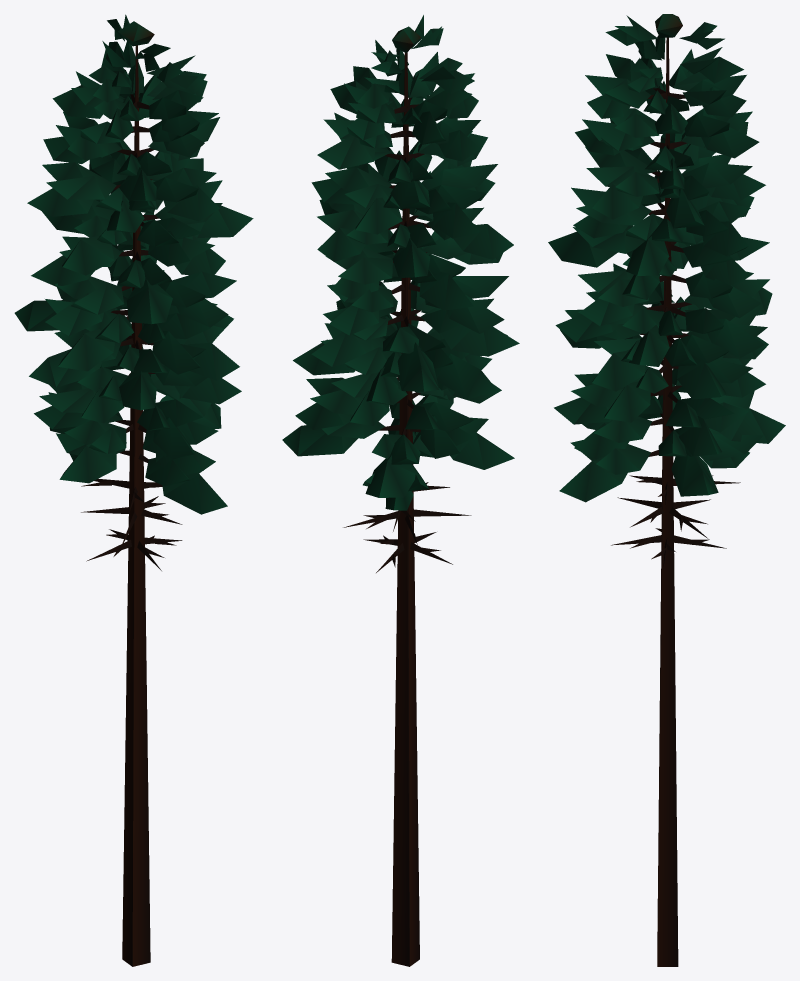
Rendered from pine-lod1.glb.
The picture shows the model from 3 angles, left to right: view 1: azimuth 30°, elevation 25°; view 2: azimuth 150°, elevation 25°; view 3: azimuth 270°, elevation 25°; orthographic projection.
Visible parts, largest first — view 1: tree; view 2: tree; view 3: tree.
Part boxes in pixels (x1,y1,x2,y2): tree: [14, 14, 253, 966]; tree: [282, 15, 519, 966]; tree: [548, 14, 785, 966].
Bounding box in the file's own units: 4.54 × 19.91 × 4.53.
